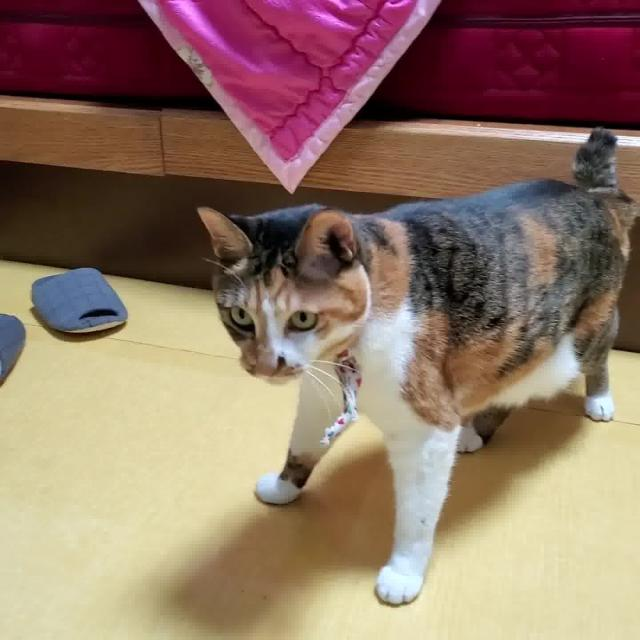cat: (185, 127, 640, 606)
